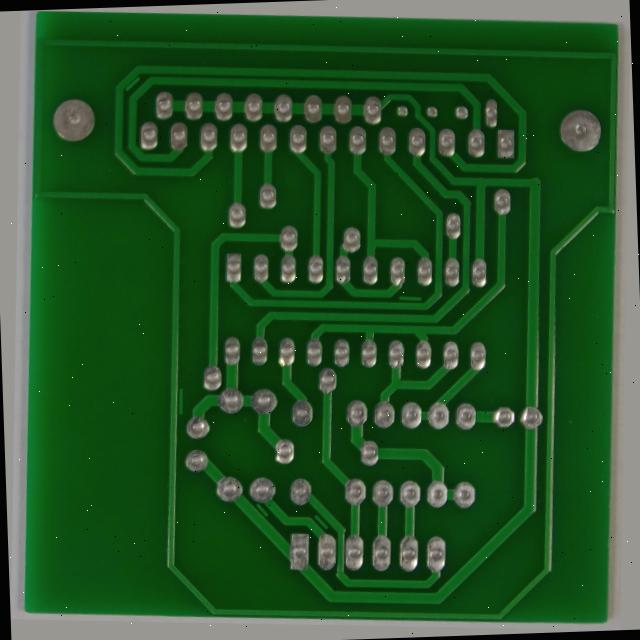spurious_copper: (96, 70, 126, 96), (169, 397, 186, 430), (396, 284, 430, 300), (260, 513, 280, 536), (322, 522, 343, 543)
